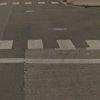Crosswalk: (5, 31, 100, 67)
